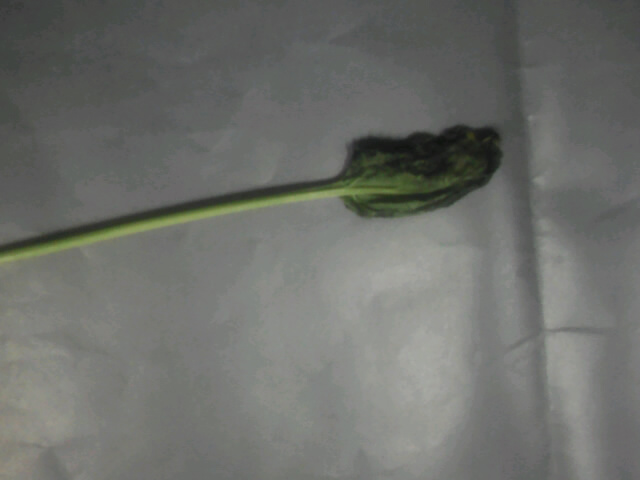yellow: (128, 116, 507, 226)
